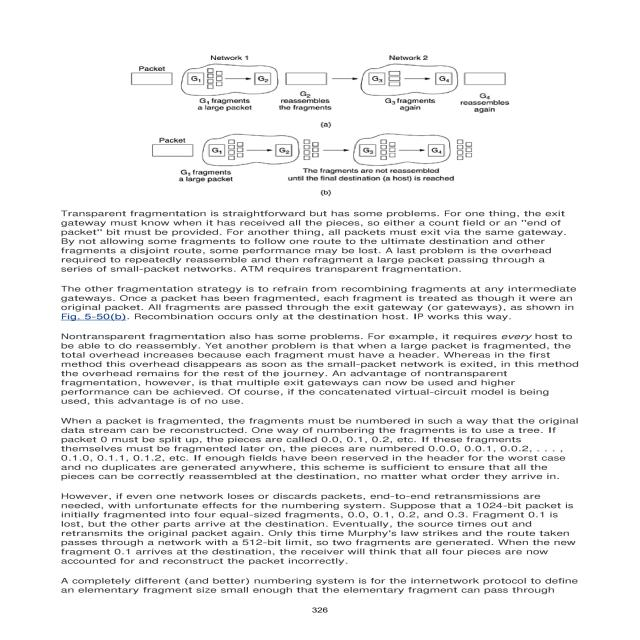diagram: (107, 46, 531, 200)
